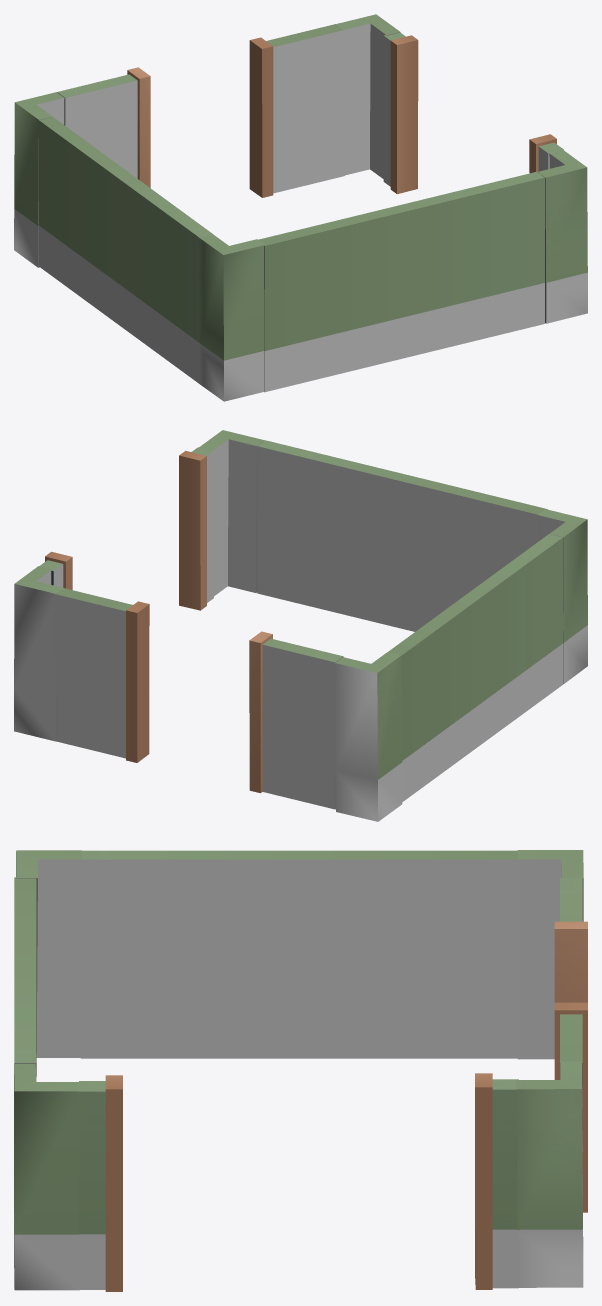
Rendered from GARAJE.fbx.
3 views of the same model, one above another, from view 1: azimuth 30°, elevation 25°; view 2: azimuth 150°, elevation 25°; view 3: azimuth 270°, elevation 25° (orthographic). The views are drawn at different scales.
Parts seen in each view (by area): view 1: paret_basica14, paret_basica15, paret_puerta28, paret_esquina20, paret_esquina16, paret_garaje1, paret_esquina18, paret_esquina_45; view 2: paret_basica14, paret_puerta28, paret_basica15, paret_esquina_45, paret_esquina16, paret_esquina18, paret_garaje1, paret_esquina20; view 3: paret_basica15, paret_garaje1, paret_esquina18, paret_esquina16, paret_esquina20, paret_esquina_45, paret_puerta28, paret_basica14.
Part boxes in pixels (x1,y1,x2,y2): paret_basica14: (258,171,544,392); paret_basica15: (38,117,213,383); paret_puerta28: (57,24,344,197); paret_esquina20: (199,234,264,401); paret_esquina16: (537,150,587,323); paret_garaje1: (383,32,563,194); paret_esquina18: (334,14,400,178); paret_esquina_45: (14,92,64,267); paret_basica14: (257,440,547,631); paret_puerta28: (54,588,343,809); paret_basica15: (388,534,563,801); paret_esquina_45: (335,652,402,821); paret_esquina16: (199,430,264,595); paret_esquina18: (14,566,64,741); paret_garaje1: (39,447,213,610); paret_esquina20: (537,509,587,683); paret_basica15: (80,850,519,1058); paret_garaje1: (79,1073,518,1291); paret_esquina18: (516,1061,583,1287); paret_esquina16: (14,1063,79,1290); paret_esquina20: (16,850,81,1076); paret_esquina_45: (517,850,583,1059); paret_puerta28: (554,877,587,1212); paret_basica14: (14,877,36,1081).
Bounding box in the file's own units: 869 × 341 × 866.
